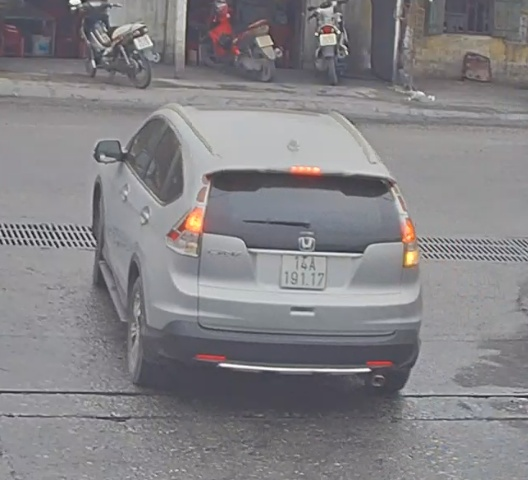vehicle plate: (281, 245, 329, 289)
